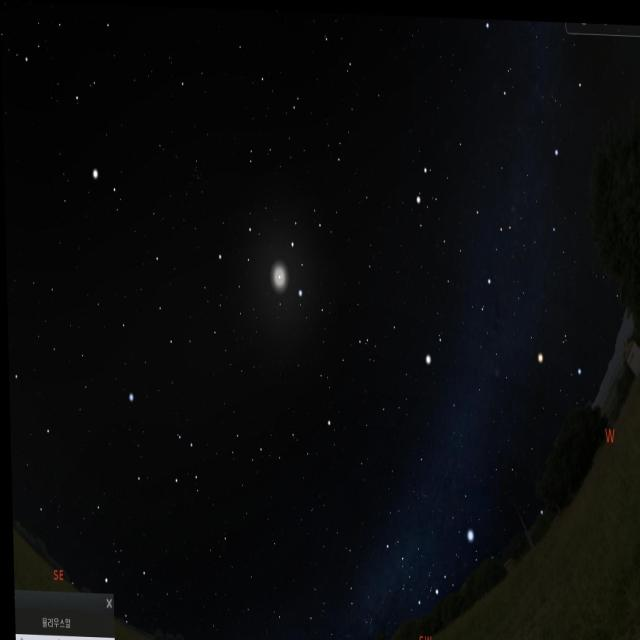bootes: (40, 1, 130, 194)
canis_minor: (413, 319, 448, 376)
gemini: (412, 144, 520, 300)
leo: (205, 184, 331, 321)
moon: (263, 243, 298, 307)
